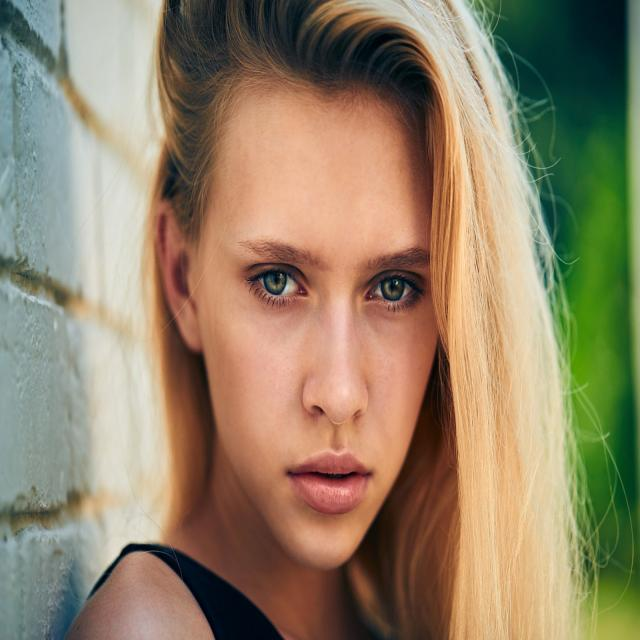earlobe: (153, 200, 204, 356)
